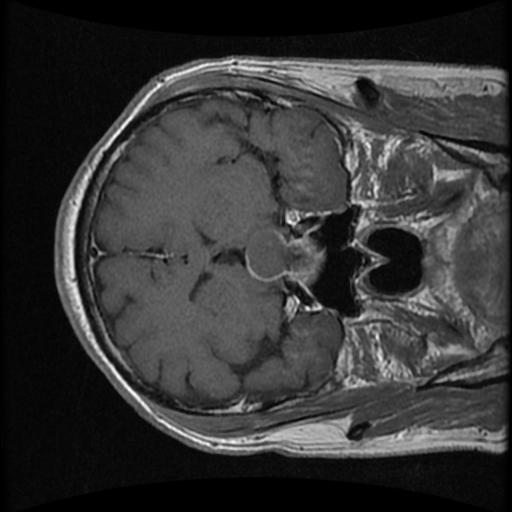pituitary tumour: (243, 220, 325, 286)
